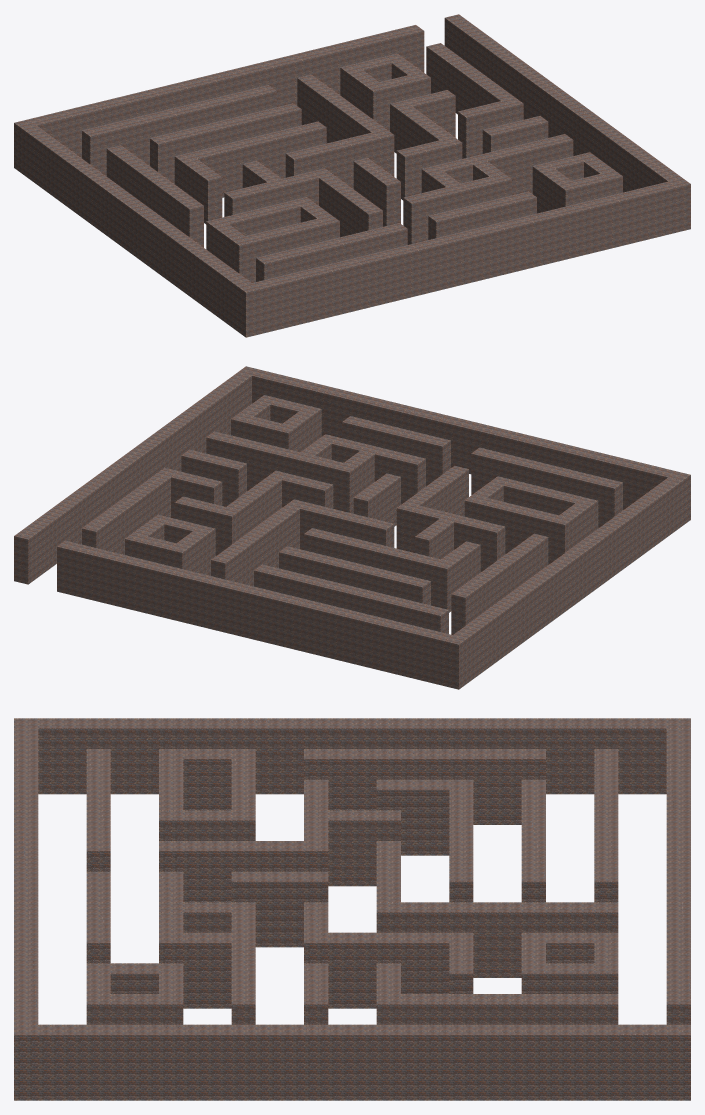
File: stageWall.gltf
3 renders of one model, top to bottom at view 1: azimuth 30°, elevation 25°; view 2: azimuth 150°, elevation 25°; view 3: azimuth 270°, elevation 25°, orthographic. The views are drawn at different scales.
Parts seen in each view (by area): view 1: Cube.032, Cube.024, Cube.026, Cube.042, Cube.045, Cube.041, Cube.001, Cube.014, Cube.031, Cube.012, Cube.018, Cube.029 (+27 smaller); view 2: Cube.026, Cube.024, Cube.032, Cube.042, Cube.045, Cube.012, Cube.031, Cube.001, Cube.041, Cube.025, Cube.014, Cube.033 (+29 smaller); view 3: Cube.042, Cube.024, Cube.001, Cube.032, Cube, Cube.026, Cube.017, Cube.038, Cube.013, Cube.009, Cube.020, Cube.045 (+32 smaller).
Part boxes in pixels (x1,y1,x2,y2): Cube.032: (237,181,676,337); Cube.024: (14,119,251,331); Cube.026: (29,25,424,158); Cube.042: (453,20,690,232); Cube.045: (82,85,276,176); Cube.041: (150,103,301,183); Cube.001: (106,145,203,247); Cube.014: (189,121,326,197); Cube.031: (256,223,407,281); Cube.012: (421,134,573,195); Cube.018: (285,132,379,188); Cube.029: (231,219,325,282); Cube.026: (57,540,452,685); Cube.024: (444,477,682,689); Cube.032: (252,370,690,525); Cube.042: (23,366,259,577); Cube.045: (254,564,448,633); Cube.012: (206,431,357,513); Cube.031: (471,447,622,528); Cube.001: (451,533,548,634); Cube.041: (279,546,430,605); Cube.025: (464,494,573,564); Cube.014: (304,528,440,605); Cube.033: (342,416,450,486); Cube.042: (14,1024,666,1100); Cube.024: (38,718,690,794); Cube.001: (304,749,545,824); Cube.032: (14,718,38,1024); Cube: (328,932,449,1008); Cube.026: (666,728,690,1024); Cube.017: (159,841,328,902); Cube.038: (473,902,618,977); Cube.013: (231,871,328,947); Cube.009: (376,779,473,855); Cube.020: (328,810,400,886); Cube.045: (594,749,618,902).
Bounding box in the file's own units: 62 × 6 × 56.
